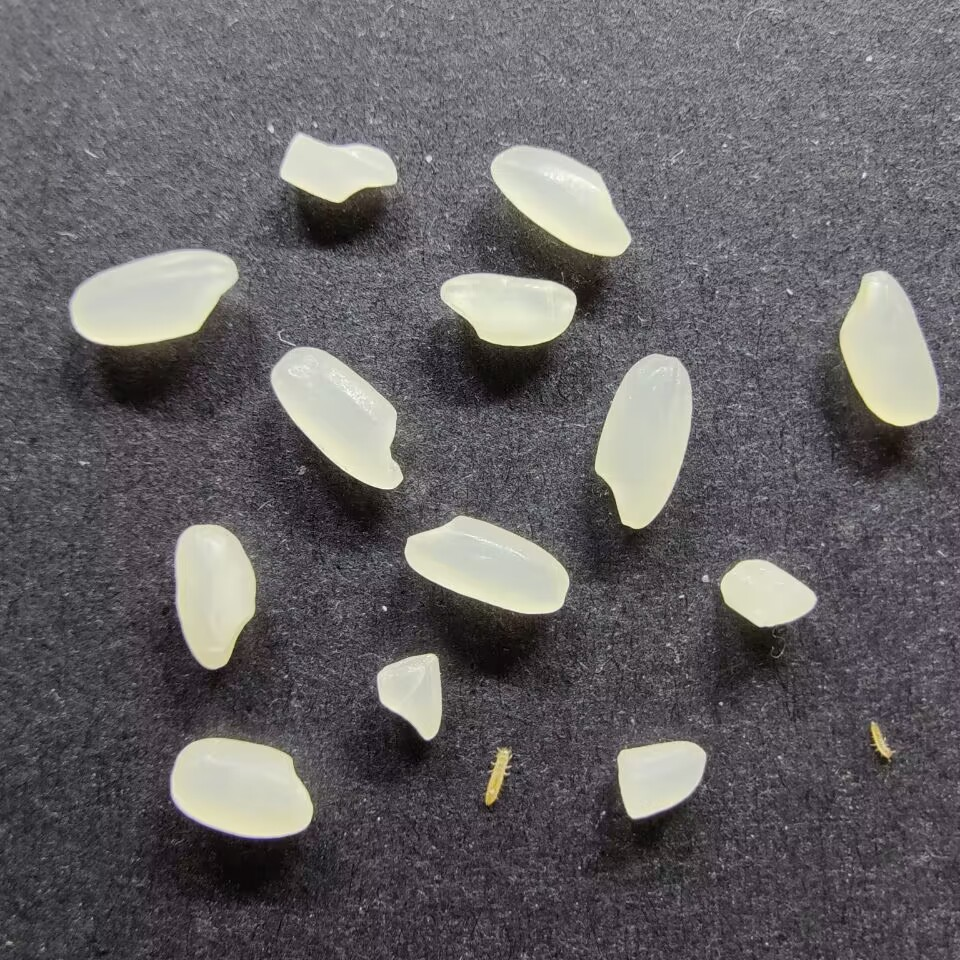broken: (276, 130, 400, 204), (615, 740, 706, 820), (721, 559, 820, 627), (372, 652, 443, 744)
others: (479, 744, 516, 806), (864, 718, 897, 763)
rice: (269, 344, 404, 491), (592, 352, 694, 530), (402, 513, 571, 615), (67, 247, 239, 346), (837, 270, 943, 427), (489, 143, 632, 259), (167, 735, 314, 840), (172, 522, 257, 670), (437, 273, 579, 346)
